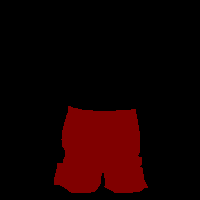mutande: (54, 105, 148, 193)
